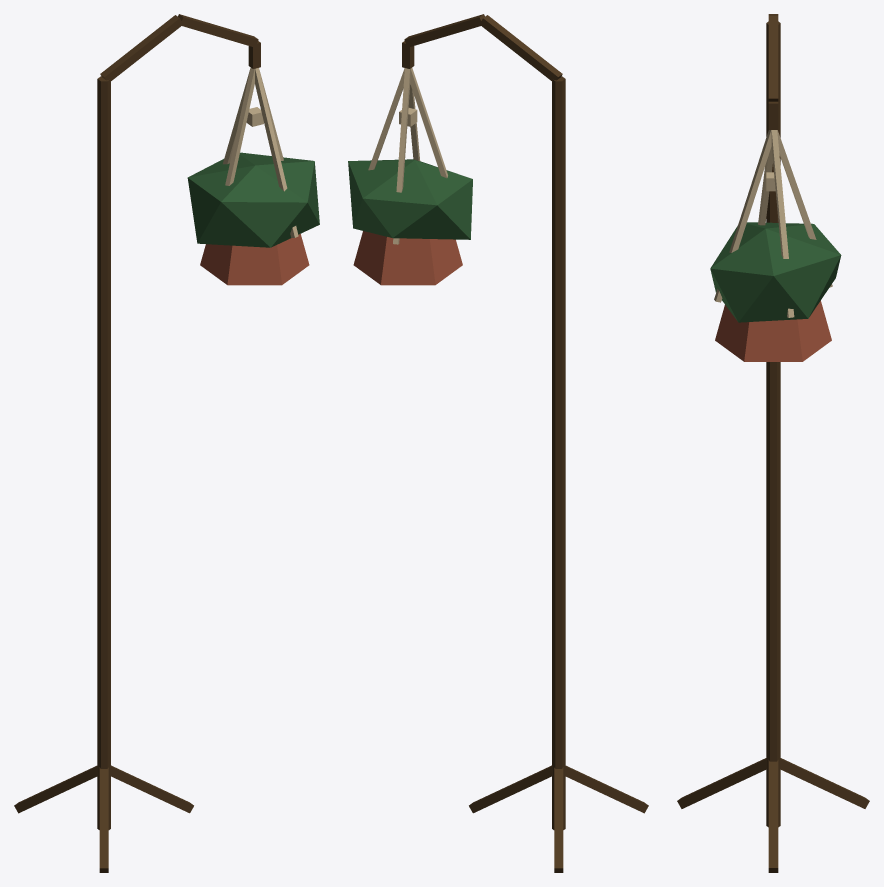
File: plant-hanger-44.glb
3 views of the same model, side by side, from view 1: azimuth 30°, elevation 25°; view 2: azimuth 150°, elevation 25°; view 3: azimuth 270°, elevation 25° (orthographic). The views are drawn at different scales.
Visible parts, largest first — view 1: plant_hanger_44; view 2: plant_hanger_44; view 3: plant_hanger_44.
Boxes of the visible parts, x1=… form: plant_hanger_44: x1=14, y1=14, x2=319, y2=872; plant_hanger_44: x1=348, y1=14, x2=648, y2=872; plant_hanger_44: x1=677, y1=14, x2=869, y2=872.
Size of the model in its own units: 0.6623 by 1.96 by 0.4009.
